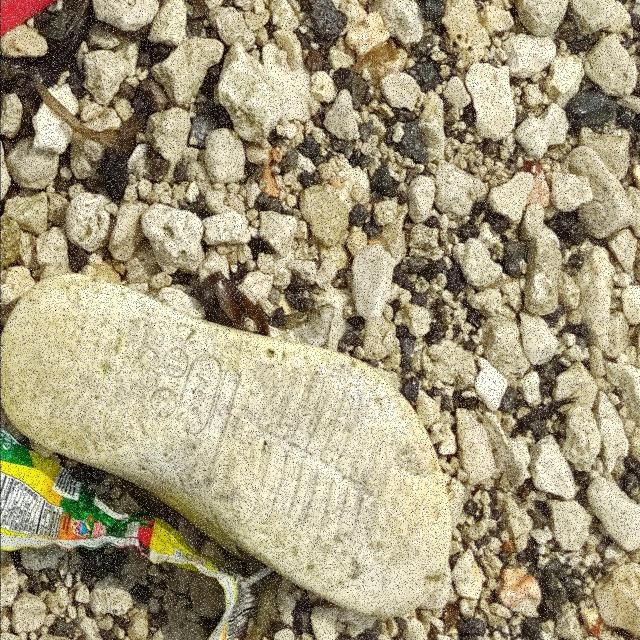plastic_waste: (1, 432, 254, 639)
rubber_waste: (1, 278, 446, 620)
